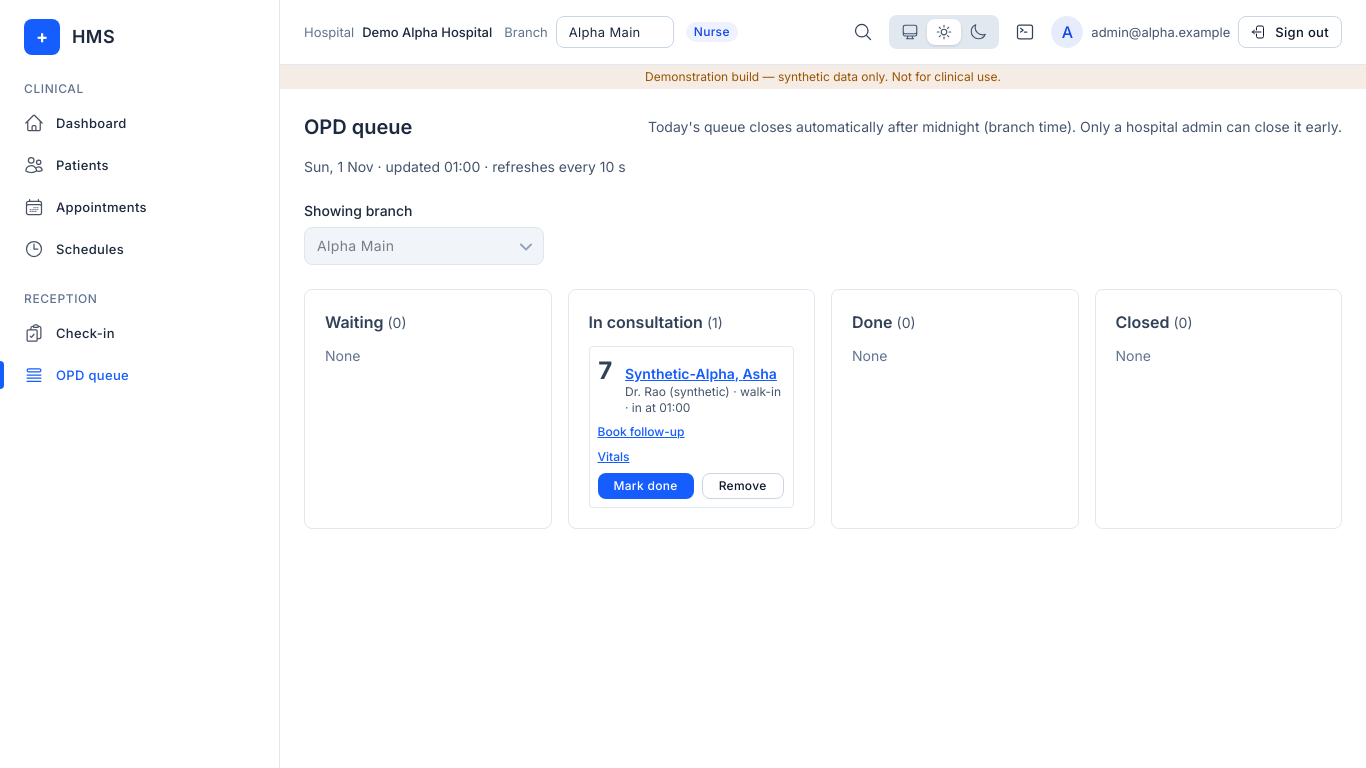
vitals from the queue › a double click sends one reading
The image size is (1366, 768).
Click the button with aria-label "Vitals for token 7" at (614, 457), box [598,449,630,465]
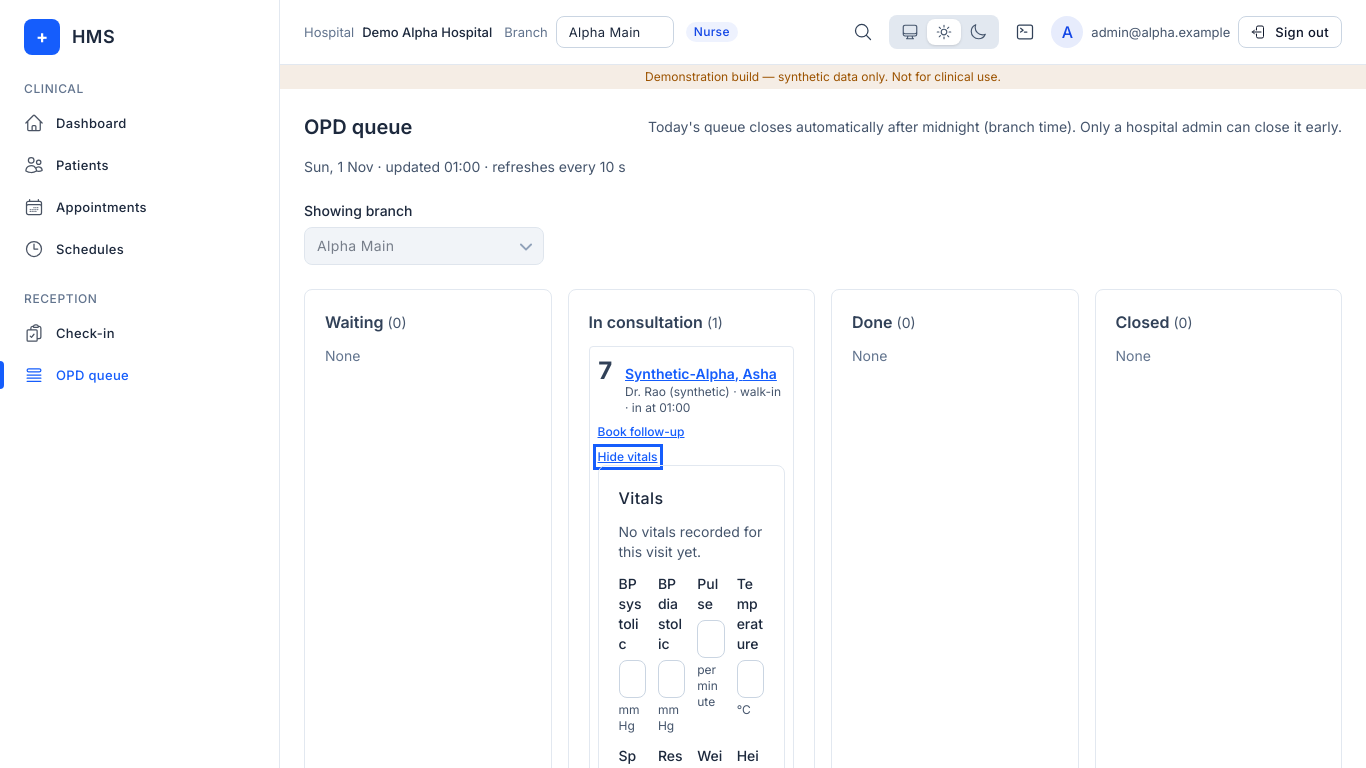
Type "72" into the number field labelled "Pulse" at (711, 639), box [697,620,725,658]
(page scrolled)
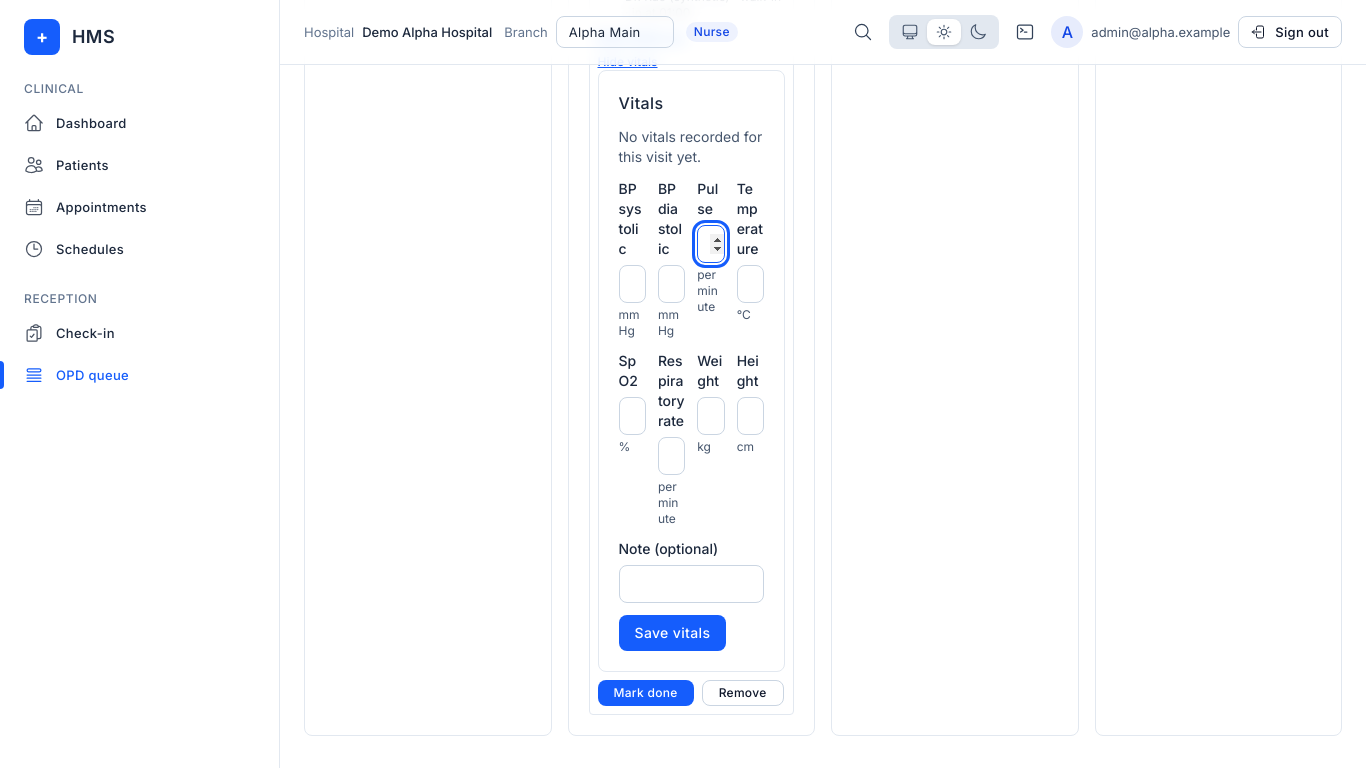
Double-click the button with test id "vitals-save" at (672, 633), box [618,615,726,651]
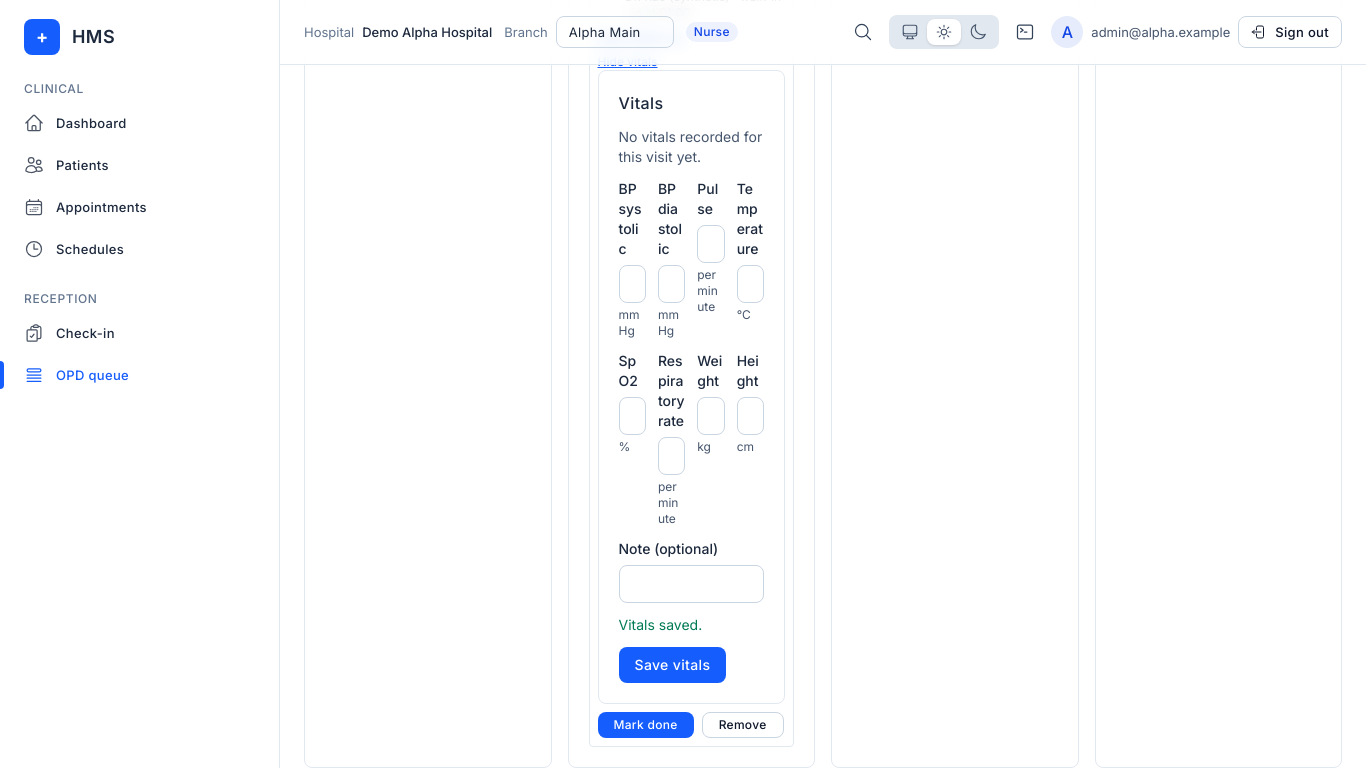
Expected: the message "Vitals saved." is shown, [618,616,702,633]
